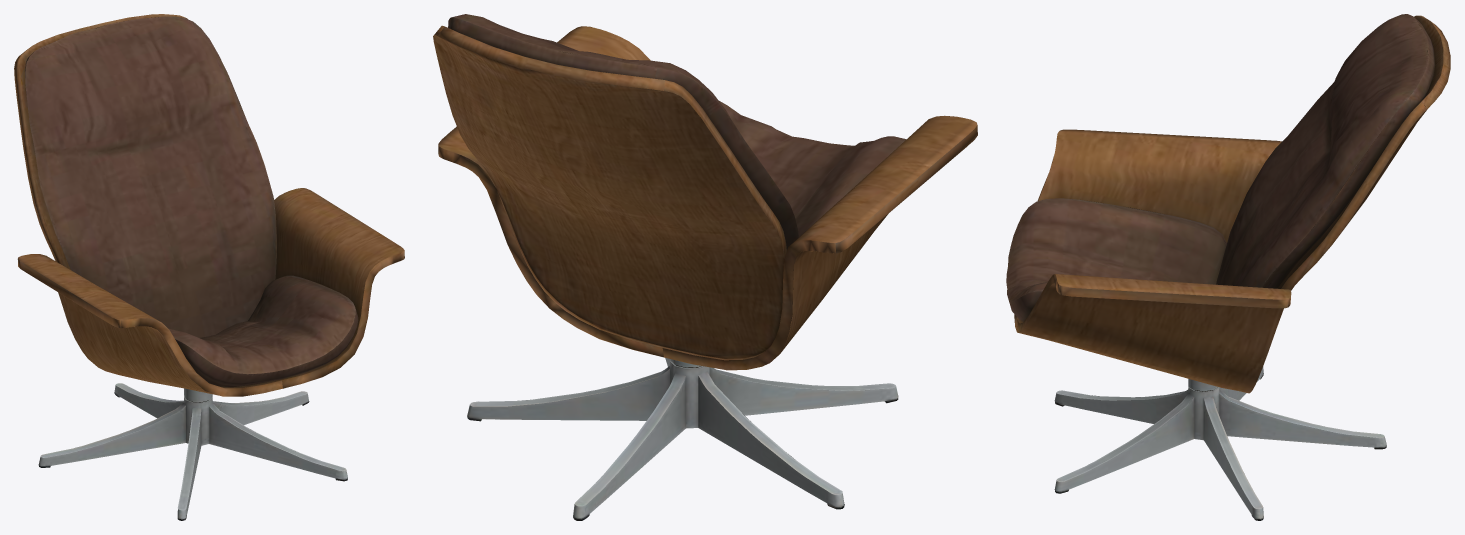
File: lounge_chair.glb
3 views of the same model, side by side, from view 1: azimuth 30°, elevation 25°; view 2: azimuth 150°, elevation 25°; view 3: azimuth 270°, elevation 25° (orthographic). The views are drawn at different scales.
Parts seen in each view (by area): view 1: mid_century_lounge_chair; view 2: mid_century_lounge_chair; view 3: mid_century_lounge_chair.
Part boxes in pixels (<box>): mid_century_lounge_chair: <box>14,14,404,520</box>; mid_century_lounge_chair: <box>433,14,977,520</box>; mid_century_lounge_chair: <box>1006,14,1450,520</box>.
Size of the model in its own units: 1.01 by 1.17 by 1.19.
Materials: 1 (1 with a texture image).
